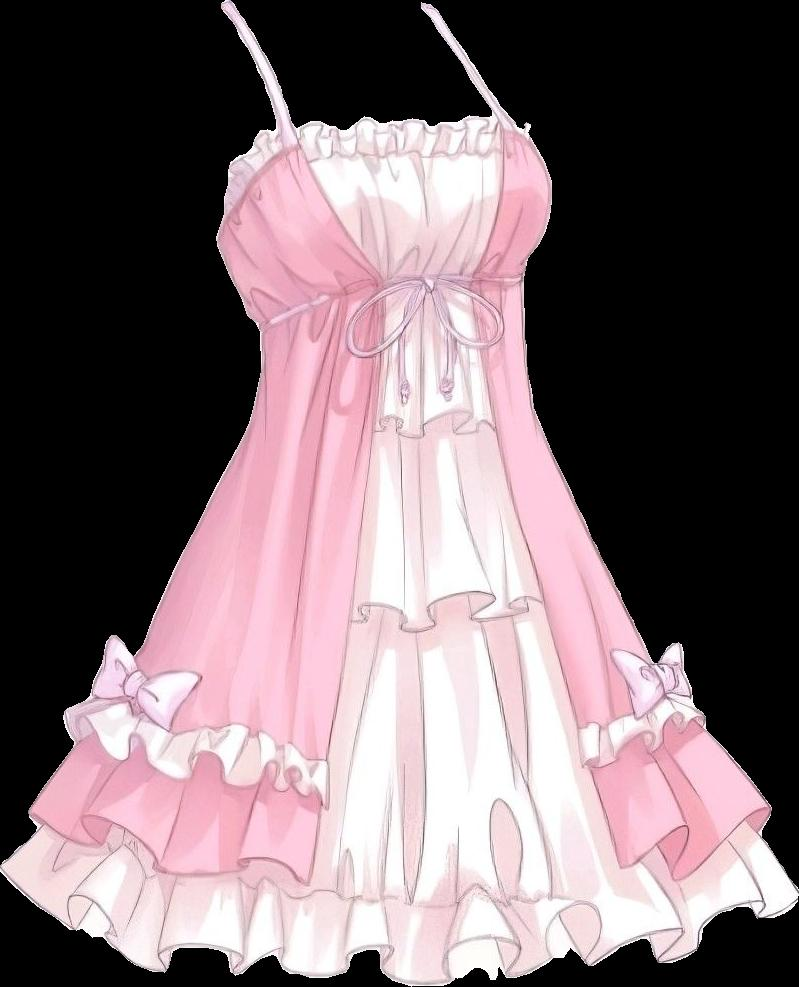Bodice: (216, 0, 551, 336)
Hemline: (26, 287, 394, 887), (468, 285, 770, 880), (0, 863, 798, 985), (339, 585, 541, 636), (367, 405, 498, 442)
Neckline: (224, 0, 500, 139), (283, 120, 389, 284), (464, 111, 511, 282)
Skirt: (1, 279, 797, 985)
Waistline: (255, 274, 524, 340)
